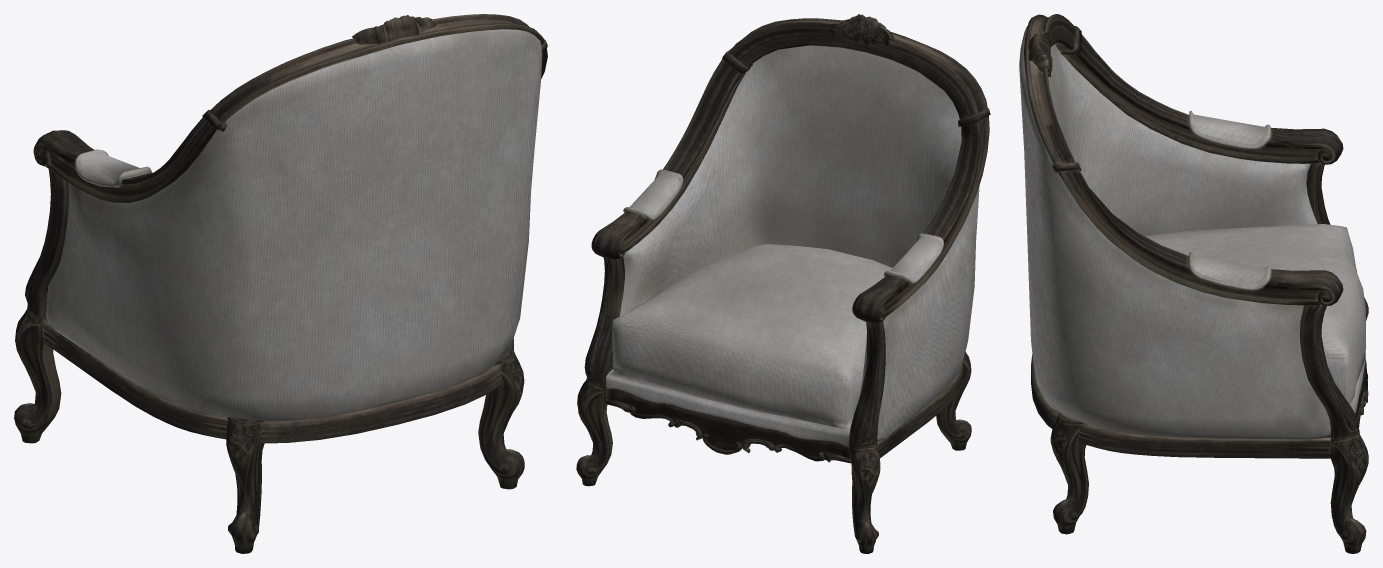
File: ArmChair_01.glb
3 renders of one model, left to right at view 1: azimuth 30°, elevation 25°; view 2: azimuth 150°, elevation 25°; view 3: azimuth 270°, elevation 25°, orthographic. The views are drawn at different scales.
Parts seen in each view (by area): view 1: ArmChair_01; view 2: ArmChair_01; view 3: ArmChair_01.
Boxes of the visible parts, x1,y1,x2,y2 form: ArmChair_01: [14, 14, 547, 553]; ArmChair_01: [576, 14, 990, 553]; ArmChair_01: [1019, 14, 1368, 553].
Bounding box in the file's own units: 0.8484 × 1.07 × 0.7658.
Materials: 1 (1 with a texture image).
